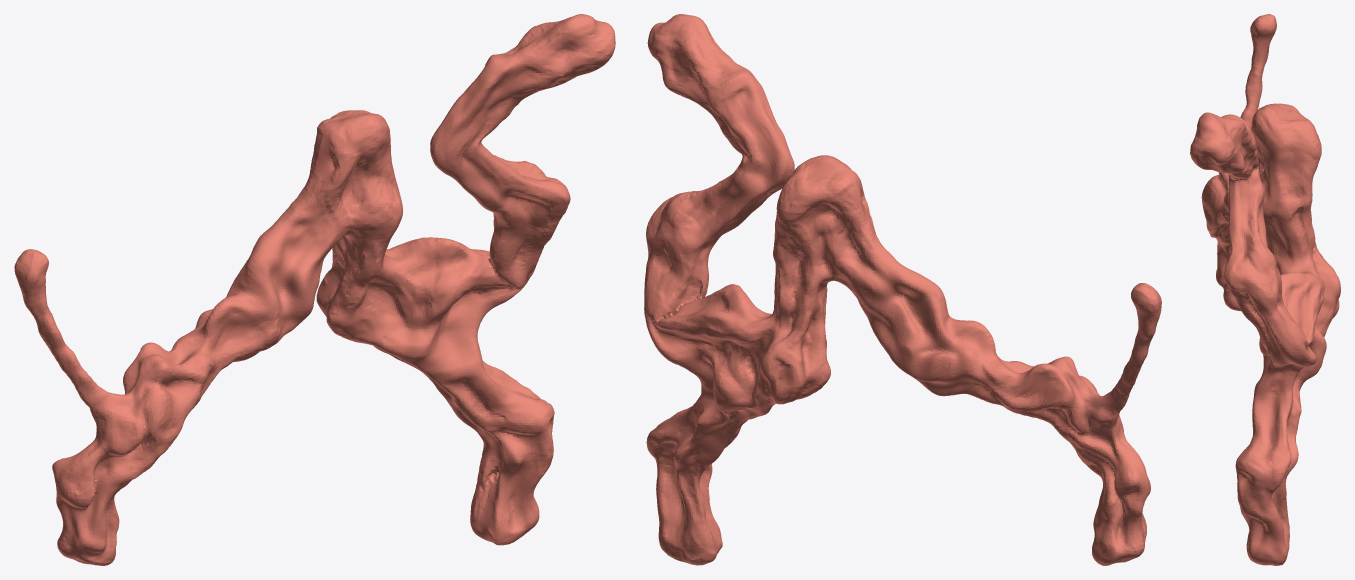
File: ramo_pink_bump.glb
3 views of the same model, side by side, from view 1: azimuth 30°, elevation 25°; view 2: azimuth 150°, elevation 25°; view 3: azimuth 270°, elevation 25° (orthographic). The views are drawn at different scales.
Parts seen in each view (by area): view 1: Sfera.003; view 2: Sfera.003; view 3: Sfera.003.
Boxes of the visible parts, x1=… form: Sfera.003: x1=14, y1=14, x2=615, y2=565; Sfera.003: x1=644, y1=14, x2=1161, y2=565; Sfera.003: x1=1190, y1=14, x2=1340, y2=565.
Size of the model in its own units: 2.99 by 2.73 by 0.8023.
